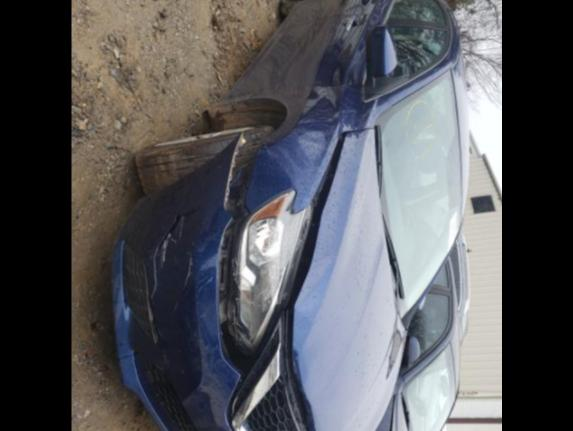Broken part: (111, 137, 263, 431), (276, 123, 350, 431), (221, 191, 312, 347)
